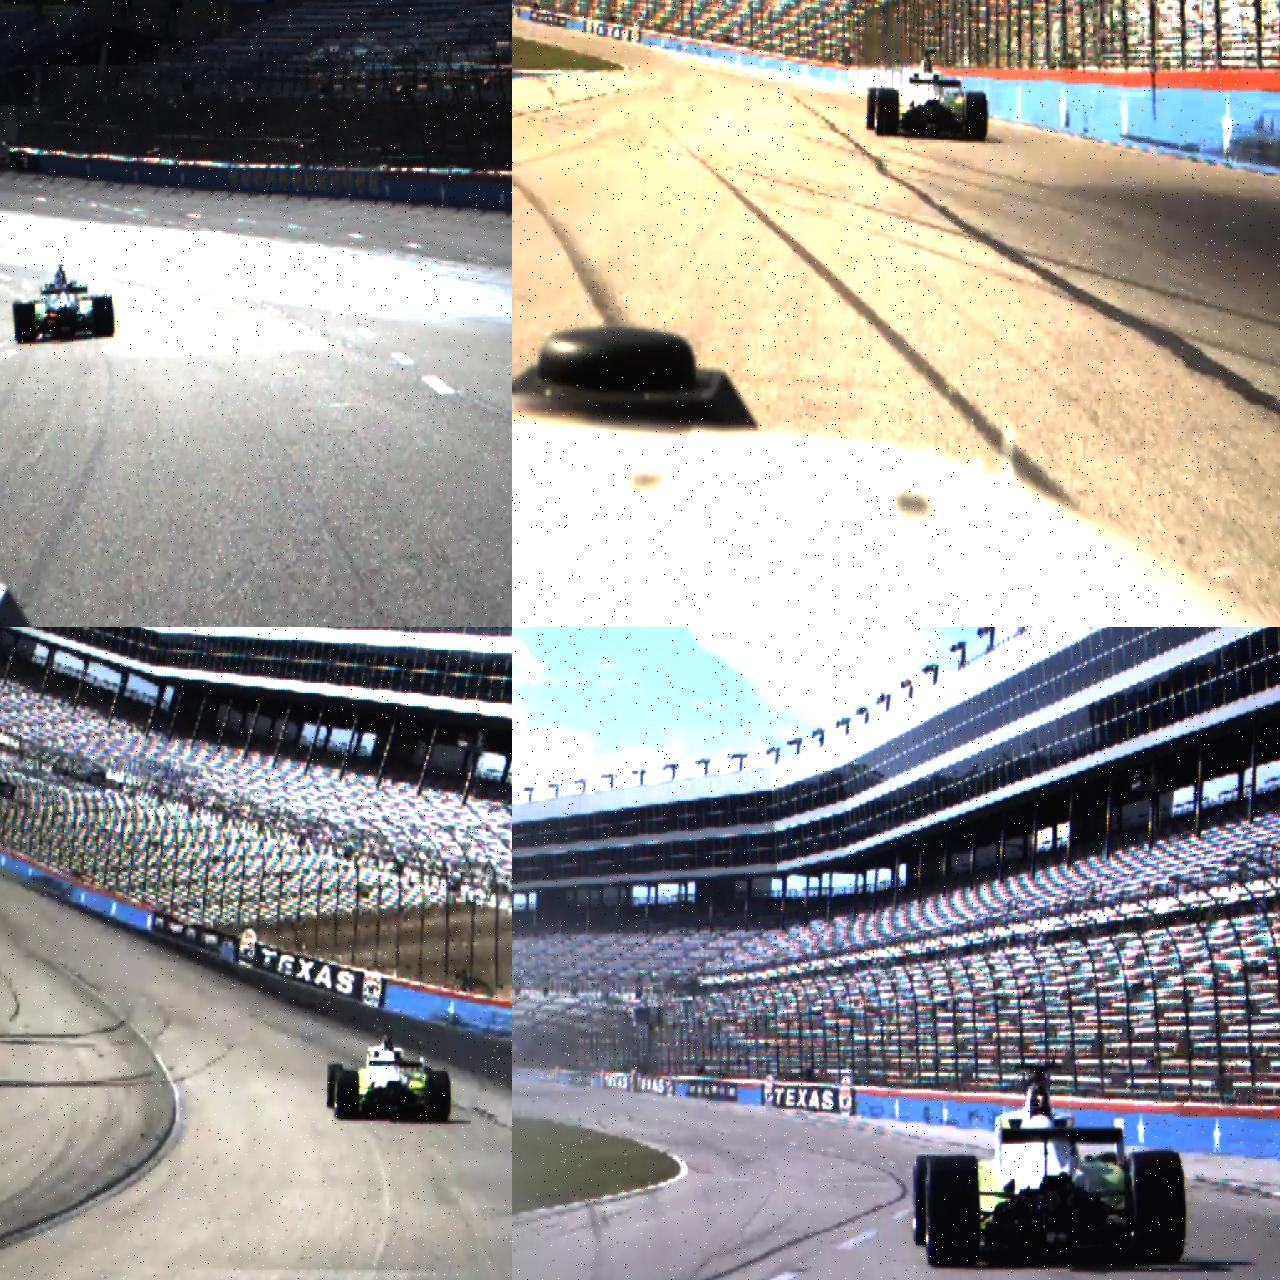AV: (912, 1060, 1189, 1272), (327, 1028, 451, 1124), (865, 49, 988, 142), (14, 265, 114, 345)
Wheel: (1129, 1149, 1187, 1262), (926, 1155, 980, 1269), (913, 1155, 946, 1247), (334, 1069, 360, 1121), (429, 1069, 450, 1123), (965, 91, 987, 142), (877, 89, 899, 136), (15, 302, 35, 343), (94, 297, 114, 336), (866, 87, 883, 131), (327, 1063, 343, 1108)
